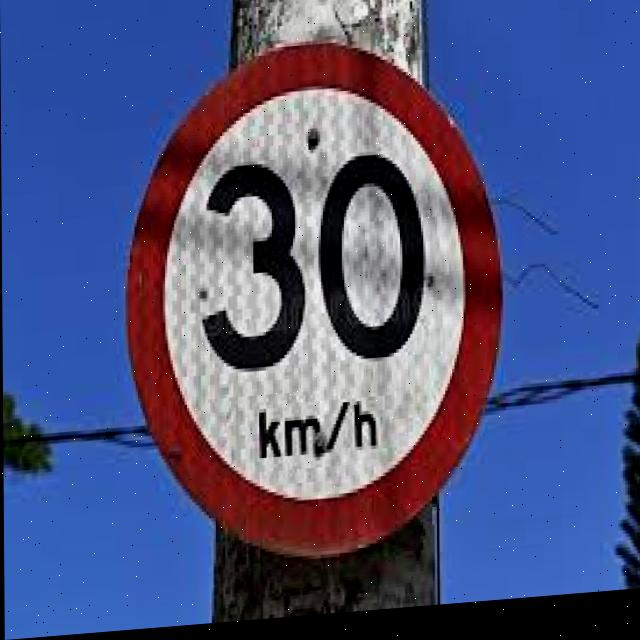Speed limit 30: (120, 28, 507, 577)
